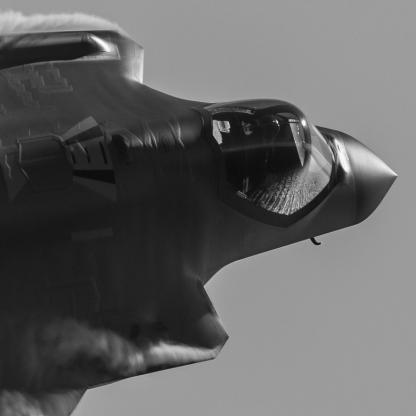F35: (1, 30, 400, 416)
